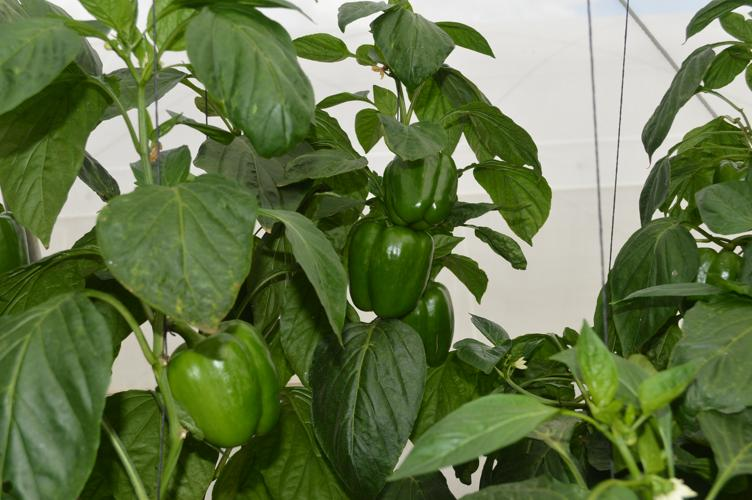BellPepper: (163, 319, 282, 443), (342, 216, 432, 317), (379, 153, 457, 229), (400, 279, 457, 360)
